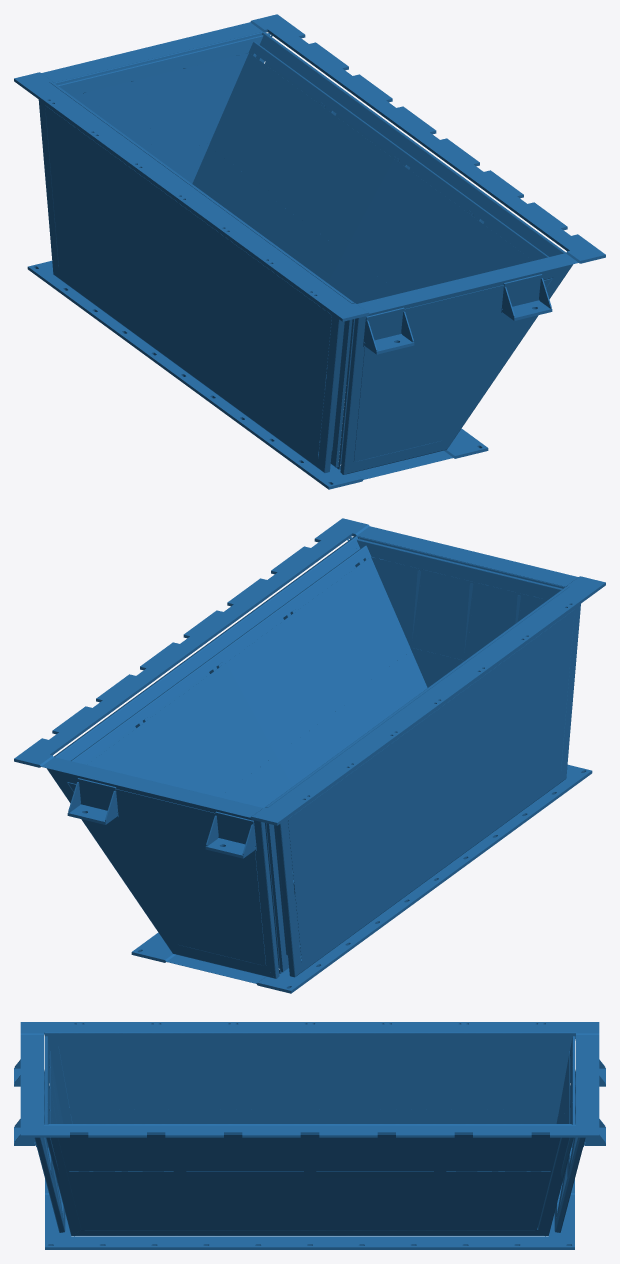
Rendered from Phase11.fbx.
3 views of the same model, one above another, from view 1: azimuth 30°, elevation 25°; view 2: azimuth 150°, elevation 25°; view 3: azimuth 270°, elevation 25° (orthographic). The views are drawn at different scales.
Parts seen in each view (by area): view 1: 48.50.14.30.003 Облицовка:48.50.14.30.003 Облицовка:818058, 48.50.14.30.003 Облицовка:48.50.14.30.003 Облицовка:818059, 48.50.14.50.003 Облицовка:48.50.14.50.003 Облицовка:931364, 48.50.14.40.002 Облицовка:48.50.14.40.002 Облицовка:765178, 48.50.14.40.001 Облицовка_Зеркальный:48.50.14.40.001 Облицов, 48.50.14.40.002 Облицовка:48.50.14.40.002 Облицовка:765136, 48.50.14.50.001 Обшивка:48.50.14.50.001 Обшивка:862168, 48.50.14.20.003 Планка:48.50.14.20.003 Планка:713965, 48.50.14.20.001 Планка:48.50.14.20.001 Планка:713962, 48.50.14.31.006_ Балка:48.50.14.31.006_ Балка:754910, 48.50.14.10.002 Планка:48.50.14.10.002 Планка:711948, 48.50.14.41.011 Уголок:48.50.14.41.011 Уголок:761398 (+17 smaller); view 2: 48.50.14.30.003 Облицовка:48.50.14.30.003 Облицовка:818059, 48.50.14.30.003 Облицовка:48.50.14.30.003 Облицовка:818058, 48.50.14.50.003 Облицовка:48.50.14.50.003 Облицовка:862170, 48.50.14.40.002 Облицовка:48.50.14.40.002 Облицовка:765136, 48.50.14.40.001 Облицовка:48.50.14.40.001 Облицовка:763297, 48.50.14.40.002 Облицовка:48.50.14.40.002 Облицовка:765178, 48.50.14.50.001 Обшивка:48.50.14.50.001 Обшивка:931362, 48.50.14.20.003 Планка:48.50.14.20.003 Планка:713965, 48.50.14.20.001 Планка:48.50.14.20.001 Планка:713962, 48.50.14.31.006_ Балка:48.50.14.31.006_ Балка:754910, 48.50.14.10.002 Планка:48.50.14.10.002 Планка:711948, 48.50.14.41.011 Уголок:48.50.14.41.011 Уголок:761398 (+17 smaller); view 3: 48.50.14.40.003 Облицовка:48.50.14.40.003 Облицовка:766024, 48.50.14.40.003 Облицовка:48.50.14.40.003 Облицовка:766107, RAL_5015 (×2), 48.50.14.30.001 Обшивка_Зеркальная:48.50.14.30.001 Обшивка_З, 48.50.14.30.001 Обшивка:48.50.14.30.001 Обшивка:818054, 48.50.14.10.002 Планка:48.50.14.10.002 Планка:711949, 48.50.14.20.001 Планка:48.50.14.20.001 Планка:713962, 48.50.14.31.004 Уголок:48.50.14.31.004 Уголок:818045, 48.50.14.20.003 Планка:48.50.14.20.003 Планка:713965, 48.50.14.31.006 Балка:48.50.14.31.006 Балка:754909, 48.50.14.20.002 Планка:48.50.14.20.002 Планка:713963, 48.50.14.20.002 Планка:48.50.14.20.002 Планка:713964 (+18 smaller).
Part boxes in pixels (bbox=[...]): 48.50.14.30.003 Облицовка:48.50.14.30.003 Облицовка:818058: bbox=[188, 210, 331, 458]; 48.50.14.30.003 Облицовка:48.50.14.30.003 Облицовка:818059: bbox=[45, 105, 188, 364]; 48.50.14.50.003 Облицовка:48.50.14.50.003 Облицовка:931364: bbox=[353, 285, 526, 461]; 48.50.14.40.002 Облицовка:48.50.14.40.002 Облицовка:765178: bbox=[254, 105, 394, 282]; 48.50.14.40.001 Облицовка_Зеркальный:48.50.14.40.001 Облицов: bbox=[194, 54, 320, 230]; 48.50.14.40.002 Облицовка:48.50.14.40.002 Облицовка:765136: bbox=[328, 159, 467, 303]; 48.50.14.50.001 Обшивка:48.50.14.50.001 Обшивка:862168: bbox=[72, 53, 248, 156]; 48.50.14.20.003 Планка:48.50.14.20.003 Планка:713965: bbox=[14, 73, 365, 321]; 48.50.14.20.001 Планка:48.50.14.20.001 Планка:713962: bbox=[255, 14, 605, 262]; 48.50.14.31.006_ Балка:48.50.14.31.006_ Балка:754910: bbox=[263, 32, 565, 256]; 48.50.14.10.002 Планка:48.50.14.10.002 Планка:711948: bbox=[27, 260, 354, 489]; 48.50.14.41.011 Уголок:48.50.14.41.011 Уголок:761398: bbox=[252, 41, 548, 259]; 48.50.14.30.003 Облицовка:48.50.14.30.003 Облицовка:818059: bbox=[288, 714, 431, 962]; 48.50.14.30.003 Облицовка:48.50.14.30.003 Облицовка:818058: bbox=[431, 609, 574, 868]; 48.50.14.50.003 Облицовка:48.50.14.50.003 Облицовка:862170: bbox=[93, 789, 266, 965]; 48.50.14.40.002 Облицовка:48.50.14.40.002 Облицовка:765136: bbox=[226, 609, 365, 786]; 48.50.14.40.001 Облицовка:48.50.14.40.001 Облицовка:763297: bbox=[300, 558, 425, 732]; 48.50.14.40.002 Облицовка:48.50.14.40.002 Облицовка:765178: bbox=[153, 663, 292, 807]; 48.50.14.50.001 Обшивка:48.50.14.50.001 Обшивка:931362: bbox=[371, 557, 547, 660]; 48.50.14.20.003 Планка:48.50.14.20.003 Планка:713965: bbox=[254, 577, 605, 825]; 48.50.14.20.001 Планка:48.50.14.20.001 Планка:713962: bbox=[14, 518, 364, 766]; 48.50.14.31.006_ Балка:48.50.14.31.006_ Балка:754910: bbox=[54, 536, 356, 760]; 48.50.14.10.002 Планка:48.50.14.10.002 Планка:711948: bbox=[265, 764, 592, 993]; 48.50.14.41.011 Уголок:48.50.14.41.011 Уголок:761398: bbox=[71, 545, 366, 763]; 48.50.14.40.003 Облицовка:48.50.14.40.003 Облицовка:766024: bbox=[58, 1135, 309, 1229]; 48.50.14.40.003 Облицовка:48.50.14.40.003 Облицовка:766107: bbox=[309, 1135, 560, 1229]; RAL_5015 (×2): bbox=[180, 1043, 439, 1123]; 48.50.14.30.001 Обшивка_Зеркальная:48.50.14.30.001 Обшивка_З: bbox=[439, 1043, 566, 1123]; 48.50.14.30.001 Обшивка:48.50.14.30.001 Обшивка:818054: bbox=[58, 1043, 180, 1123]; 48.50.14.10.002 Планка:48.50.14.10.002 Планка:711949: bbox=[45, 1236, 574, 1249]; 48.50.14.20.001 Планка:48.50.14.20.001 Планка:713962: bbox=[20, 1125, 599, 1137]; 48.50.14.31.004 Уголок:48.50.14.31.004 Уголок:818045: bbox=[44, 1031, 576, 1045]; 48.50.14.20.003 Планка:48.50.14.20.003 Планка:713965: bbox=[20, 1022, 599, 1033]; 48.50.14.31.006 Балка:48.50.14.31.006 Балка:754909: bbox=[72, 1228, 547, 1235]; 48.50.14.20.002 Планка:48.50.14.20.002 Планка:713963: bbox=[576, 1032, 599, 1125]; 48.50.14.20.002 Планка:48.50.14.20.002 Планка:713964: bbox=[20, 1032, 43, 1125].
Bounding box in the file's own units: 1740 × 3848 × 1144.
